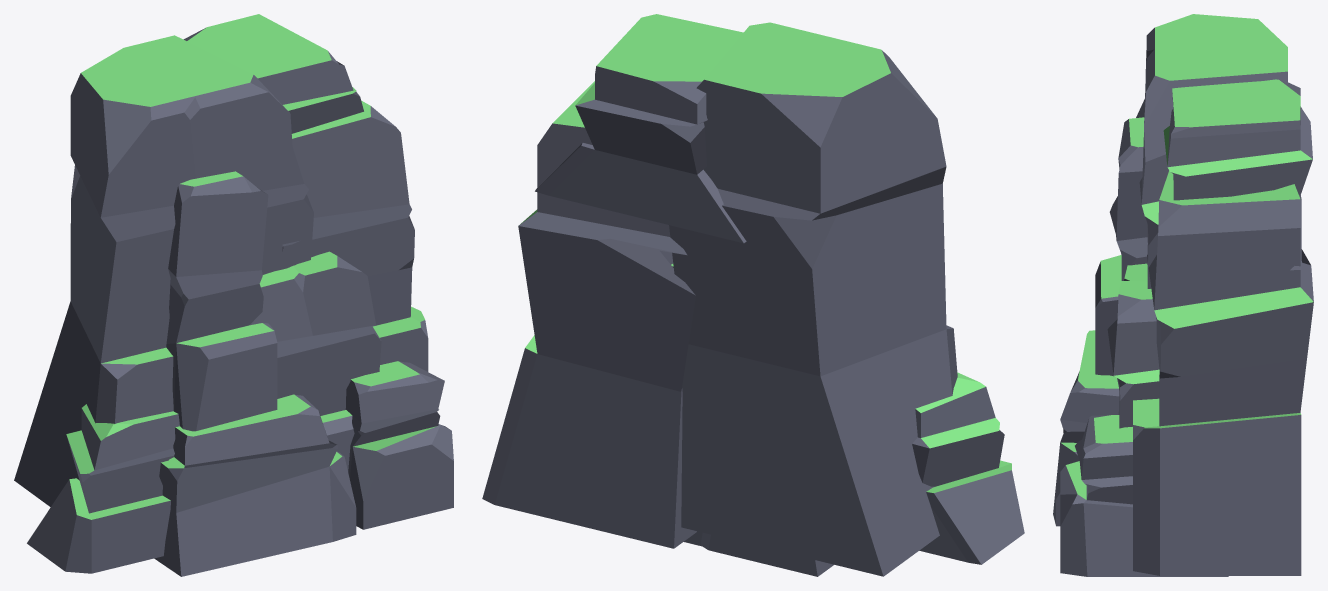
Rendered from Cliff1.fbx.
The picture shows the model from 3 angles, left to right: view 1: azimuth 30°, elevation 25°; view 2: azimuth 150°, elevation 25°; view 3: azimuth 270°, elevation 25°; orthographic projection. The views are drawn at different scales.
Visible parts, largest first — view 1: Cube.001; view 2: Cube.001; view 3: Cube.001.
Boxes of the visible parts, bbox=[...] form: Cube.001: bbox=[14, 14, 453, 576]; Cube.001: bbox=[482, 14, 1024, 576]; Cube.001: bbox=[1053, 14, 1313, 576].
Size of the model in its own units: 630 by 668 by 369.
